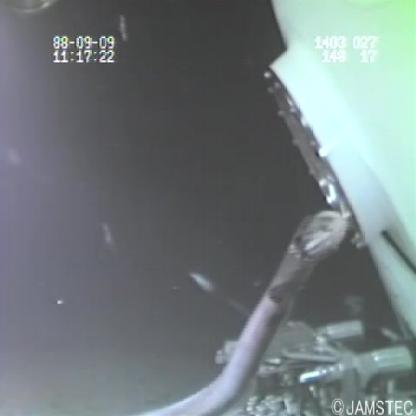Bio: (149, 203, 351, 416)
Rov: (258, 1, 416, 256), (205, 306, 416, 414)
